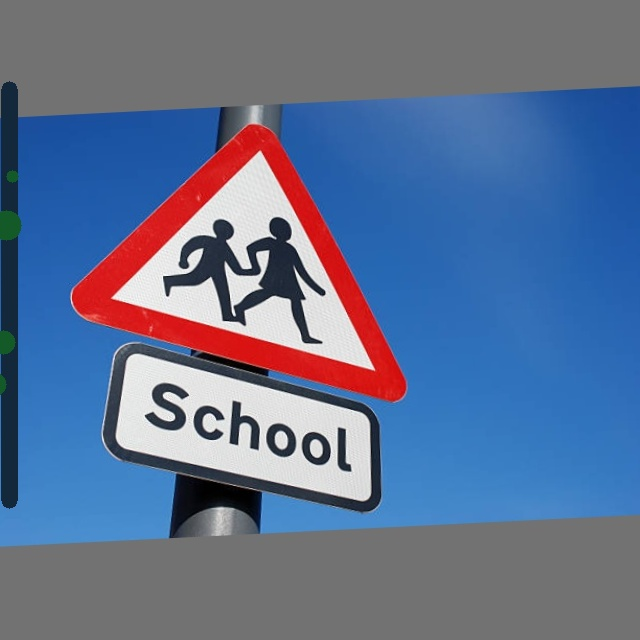School_Ahead: (69, 104, 423, 404)
